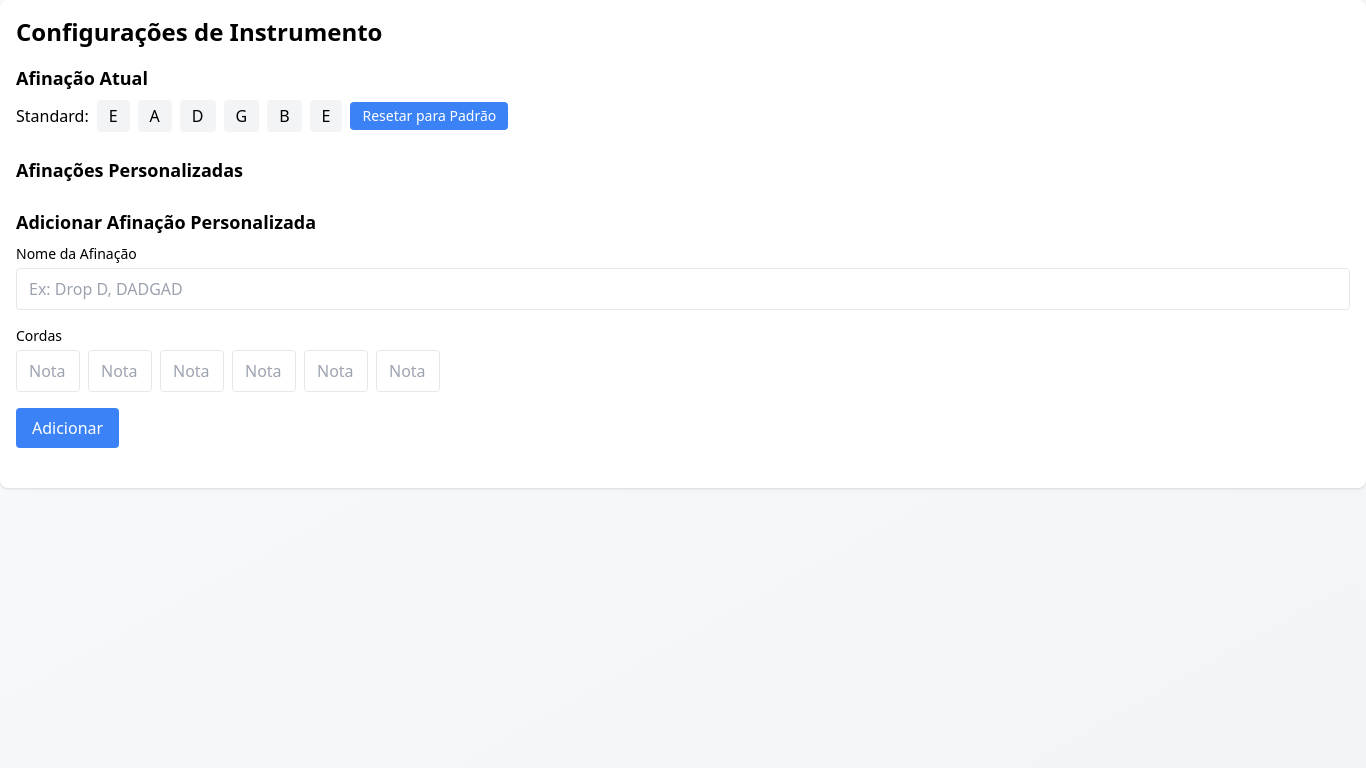
Scenario: InstrumentSettings › allows adding a custom tuning
Type "Custom Tuning" into the field with placeholder "Ex: Drop D, DADGAD" at point(683, 289), box [16,268,1350,310]
Type "D" into the 1st field with placeholder "Nota" at point(48, 371), box [16,350,80,392]
Type "A" into the 1st field with placeholder "Nota" at point(120, 371), box [88,350,152,392]
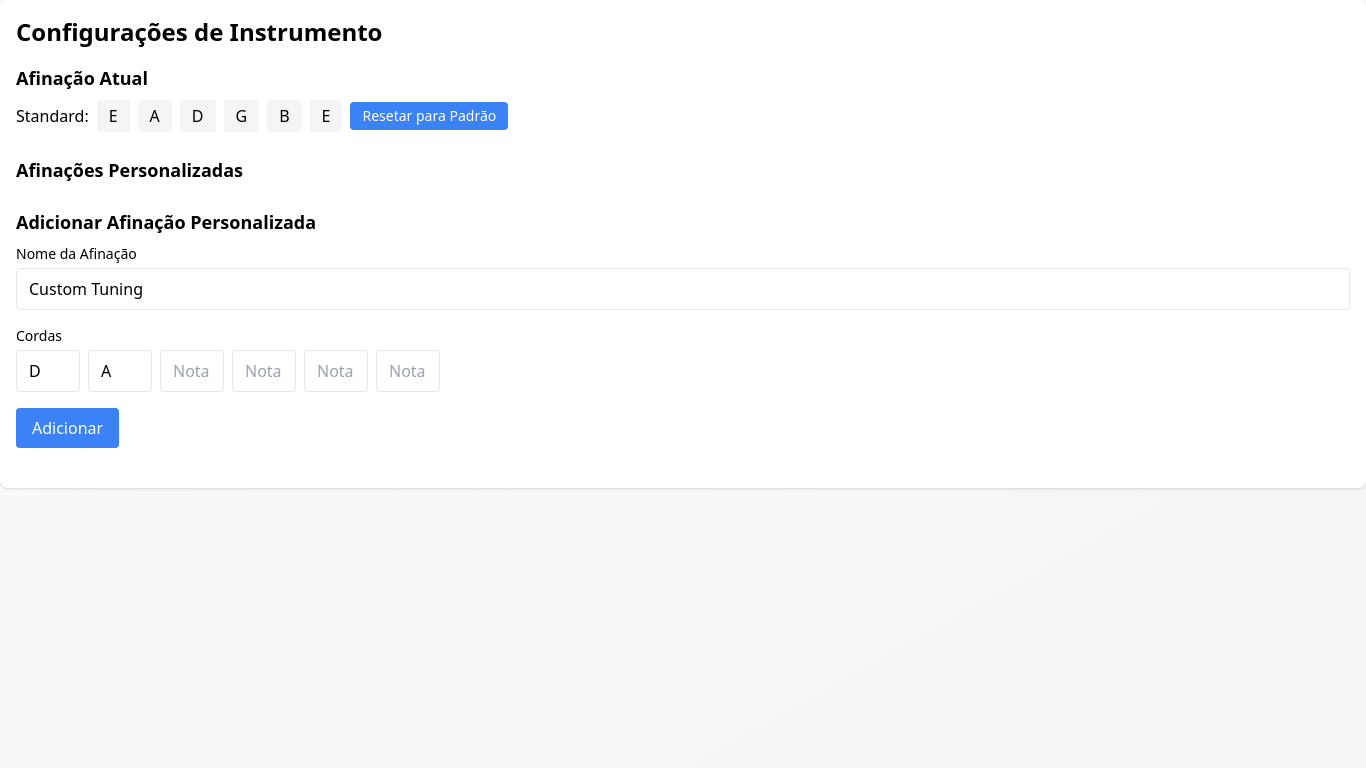
Type "D" into the 1st field with placeholder "Nota" at point(192, 371), box [160,350,224,392]
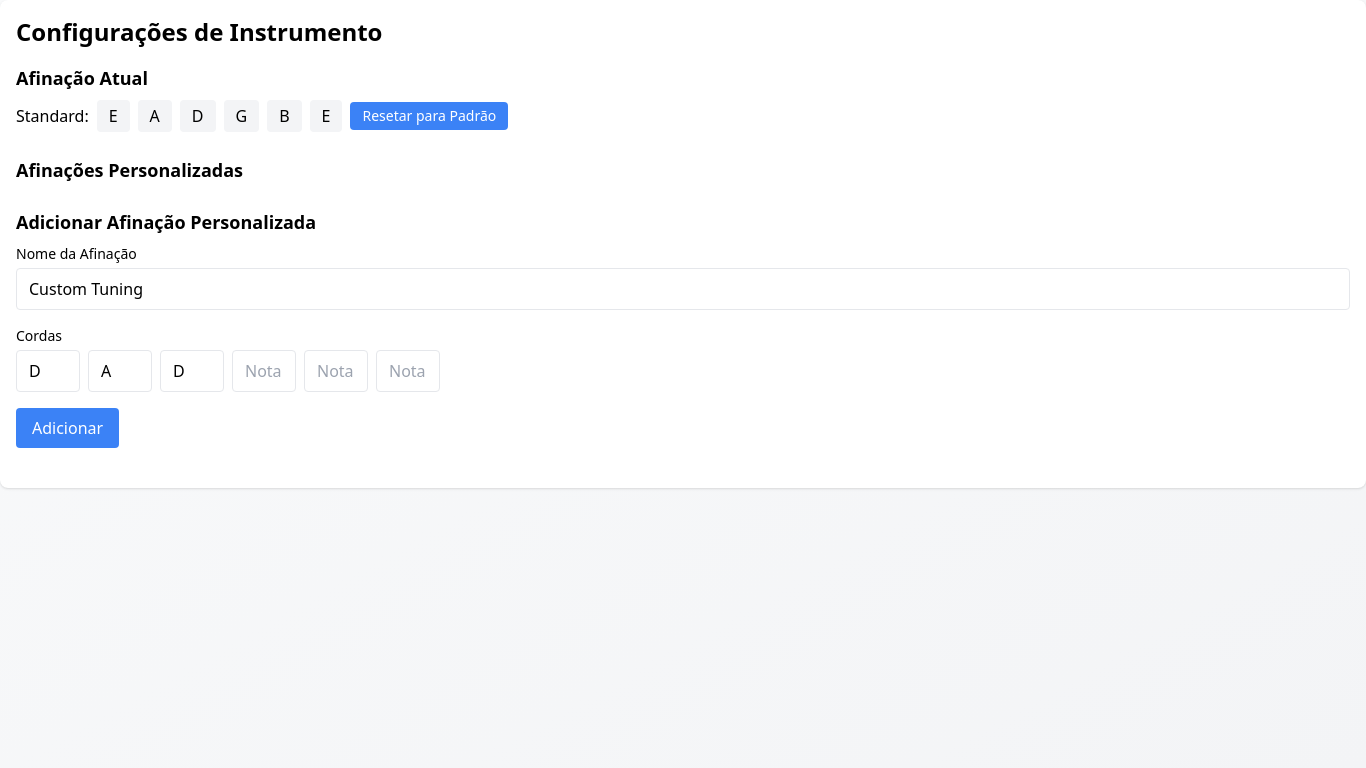
Type "G" into the 1st field with placeholder "Nota" at point(264, 371), box [232,350,296,392]
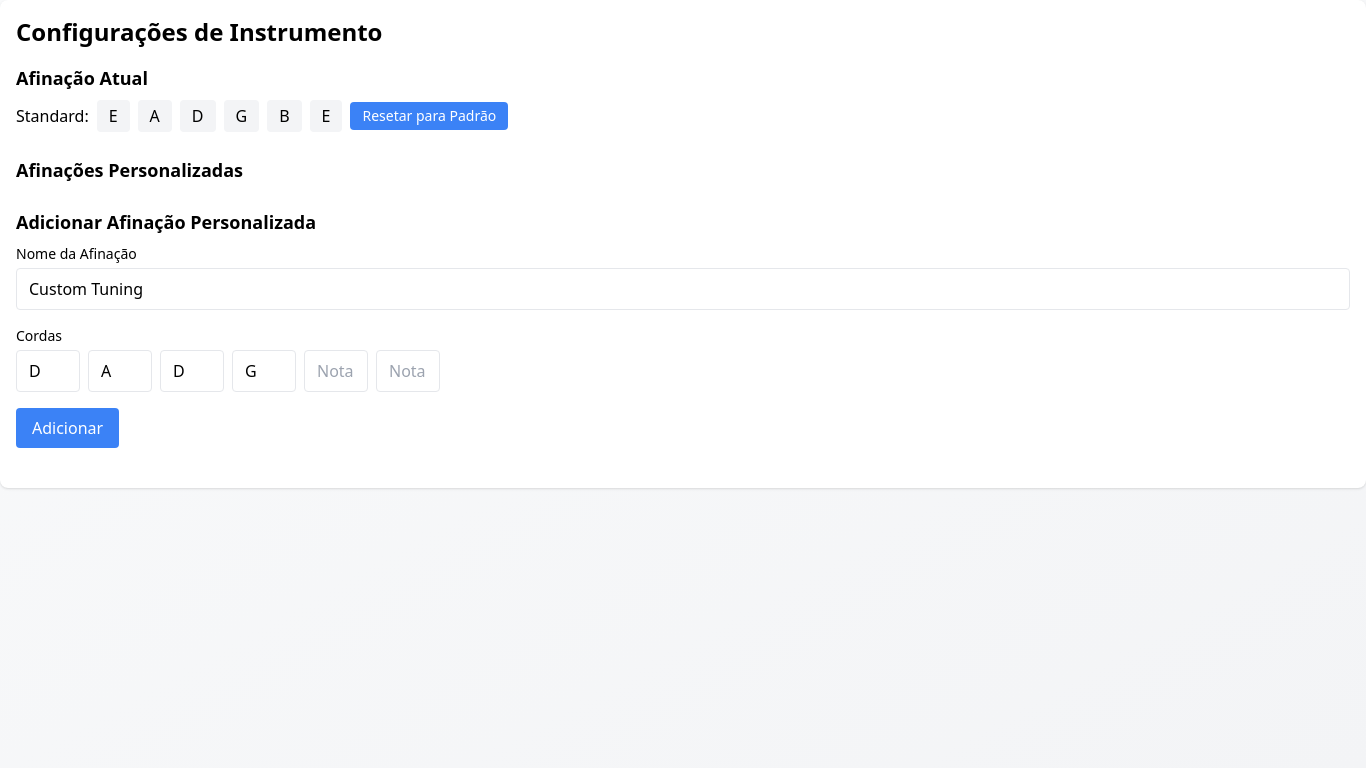
Type "B" into the 1st field with placeholder "Nota" at point(336, 371), box [304,350,368,392]
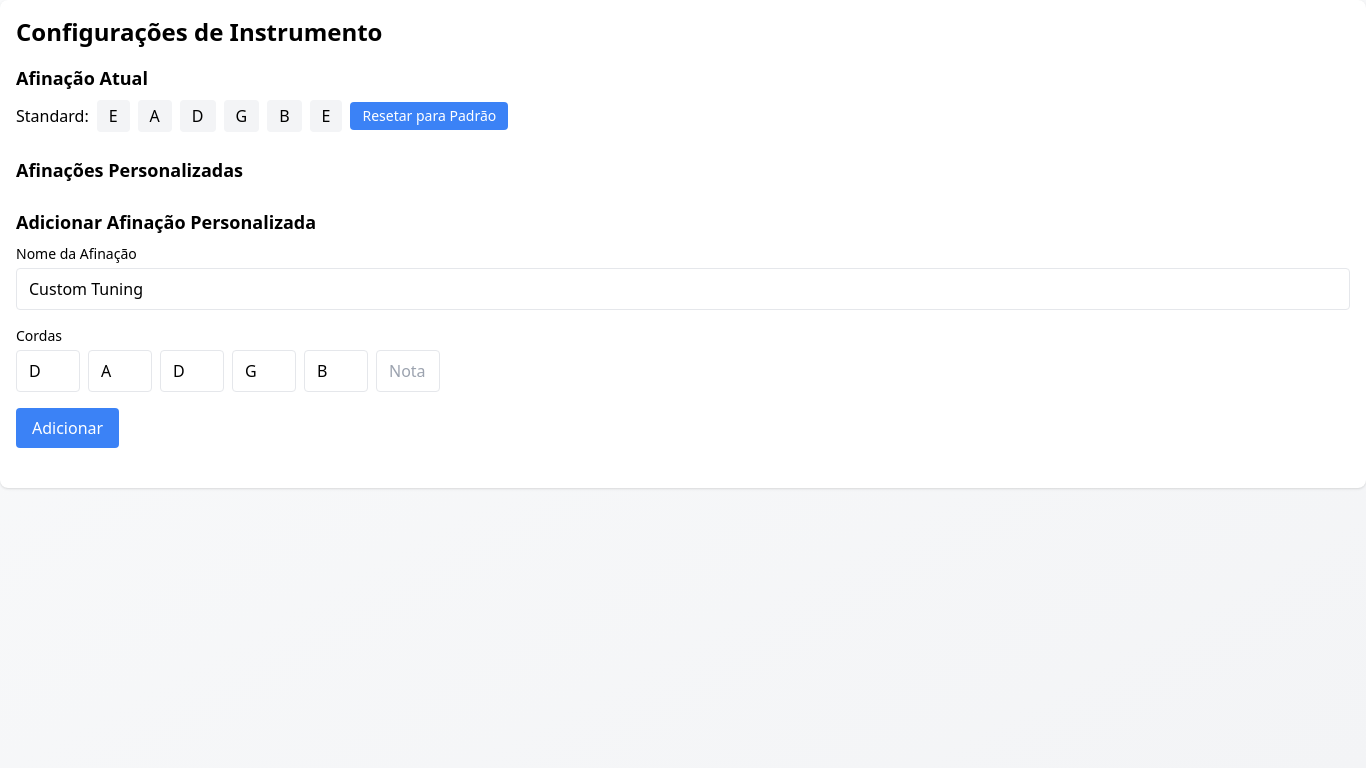
Type "E" into the field with placeholder "Nota" at point(408, 371), box [376,350,440,392]
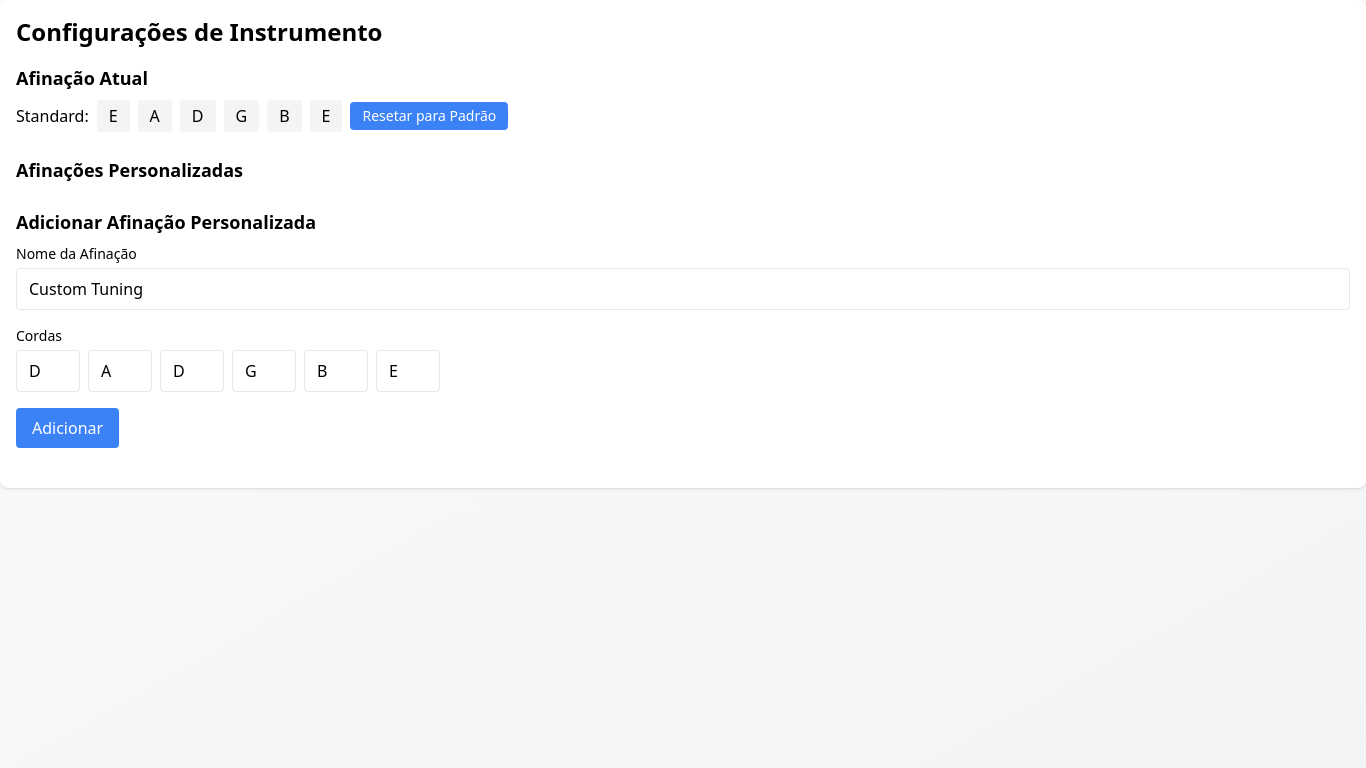
Click the button "Adicionar" at point(68, 428), box [16,408,119,448]
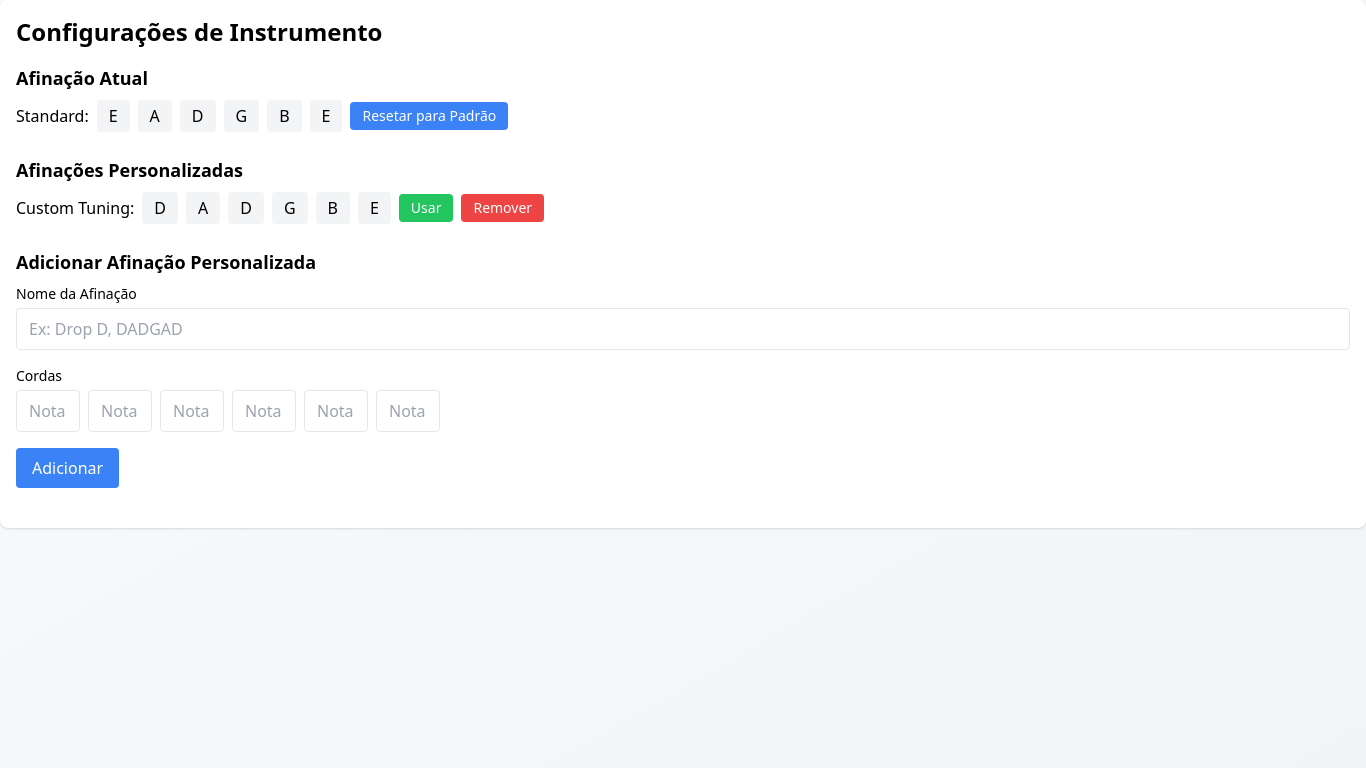
Expected: the text "Custom Tuning:" is shown, [16,196,134,220]
